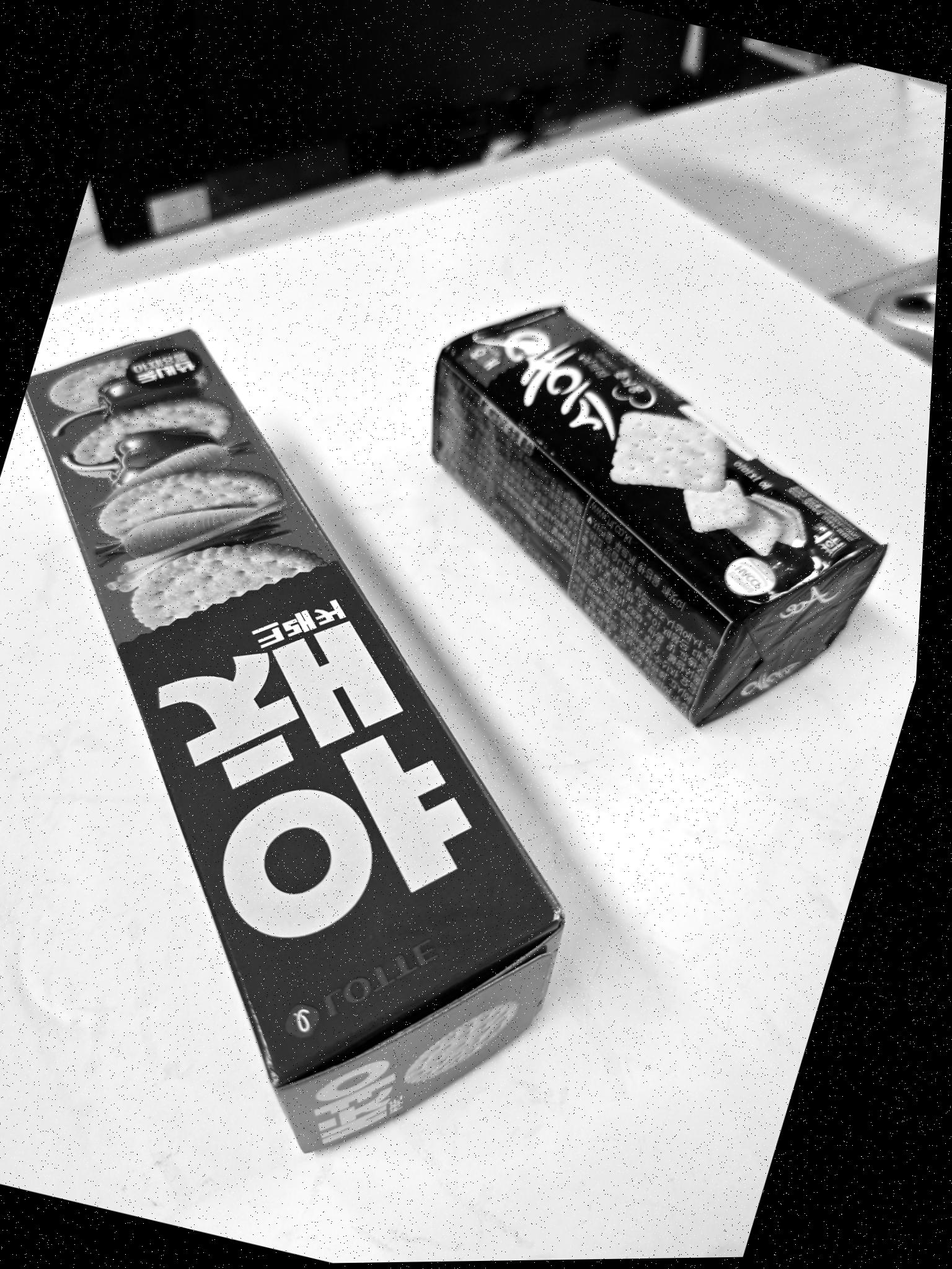cracker_ace: (432, 308, 885, 725)
cracker_vege: (25, 331, 563, 1152)
